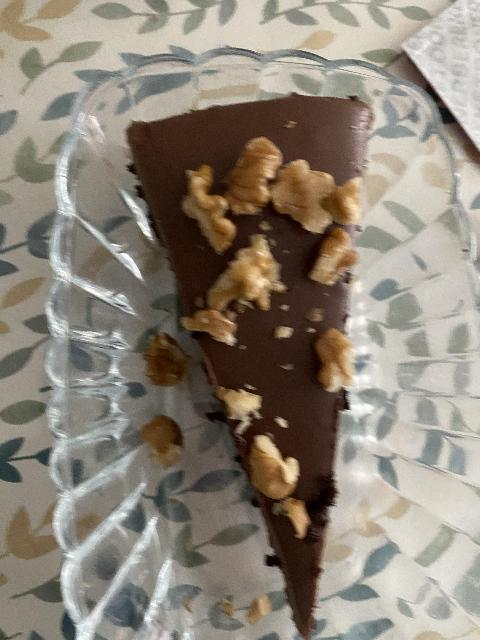Organik: (129, 97, 381, 640), (192, 249, 276, 343), (248, 435, 290, 502), (237, 137, 275, 205), (287, 159, 325, 225), (138, 337, 189, 386), (189, 178, 230, 233), (144, 406, 178, 471), (319, 327, 349, 392), (278, 497, 321, 537), (214, 386, 262, 421), (311, 246, 360, 275), (340, 192, 368, 238)
